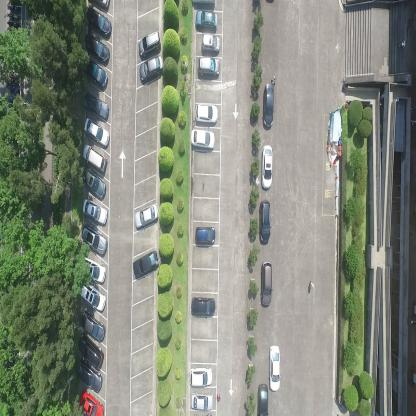car: (78, 331, 104, 369), (79, 280, 107, 314), (78, 309, 106, 343), (85, 5, 112, 40), (80, 164, 106, 200), (80, 224, 108, 257), (75, 359, 103, 392), (132, 249, 160, 279), (83, 116, 110, 147), (80, 143, 108, 172), (83, 33, 109, 64), (84, 57, 108, 90), (139, 53, 163, 85), (77, 388, 105, 415), (83, 92, 109, 121), (82, 257, 108, 285), (133, 203, 159, 230), (82, 197, 107, 225), (138, 30, 162, 59), (260, 259, 272, 307), (190, 295, 216, 317), (258, 199, 270, 244), (262, 83, 274, 127), (269, 344, 280, 392), (191, 128, 215, 150), (195, 8, 218, 30), (195, 101, 218, 123), (190, 365, 213, 387), (261, 144, 272, 188), (198, 56, 220, 78), (191, 390, 214, 411), (194, 225, 216, 246), (201, 32, 220, 52), (257, 383, 268, 415)
